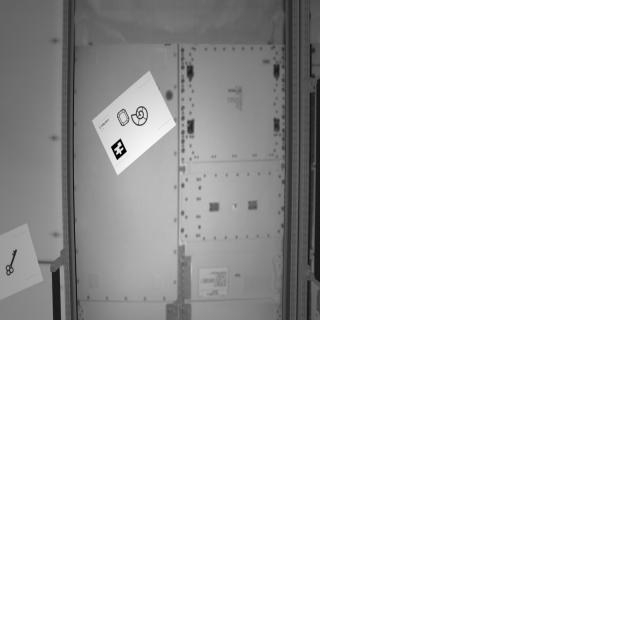emerald: (116, 108, 133, 128)
fossil: (131, 107, 150, 131)
key: (3, 248, 23, 280)
